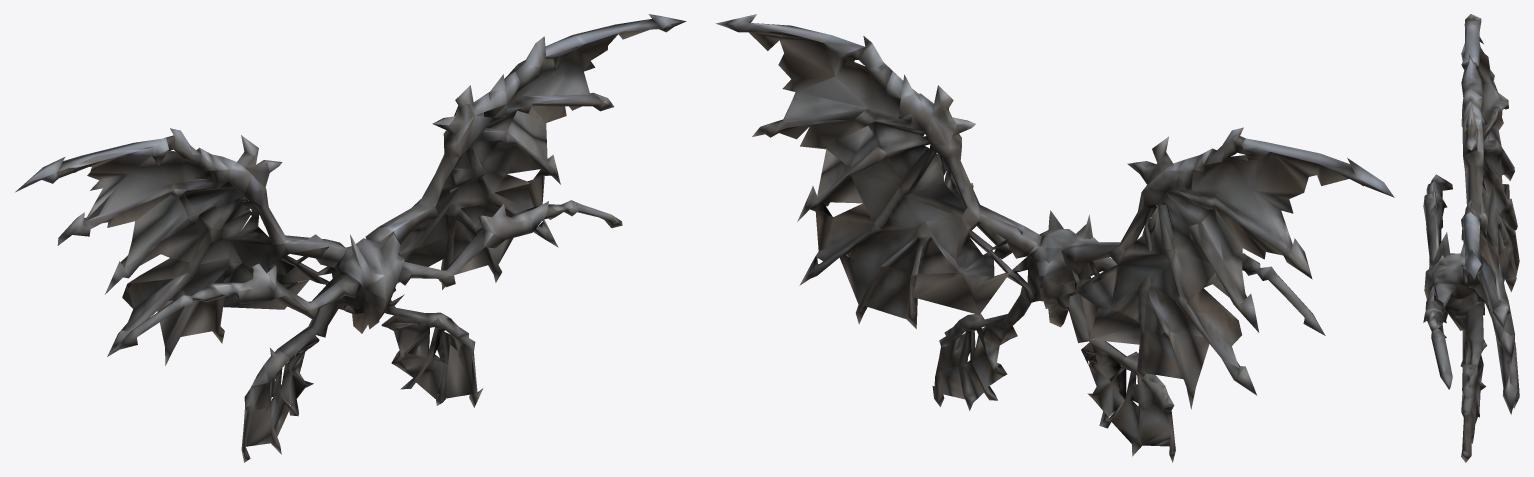
Rendered from 2500钢铁翅膀4.fbx.
3 renders of one model, left to right at view 1: azimuth 30°, elevation 25°; view 2: azimuth 150°, elevation 25°; view 3: azimuth 270°, elevation 25°, orthographic. The views are drawn at different scales.
Visible parts, largest first — view 1: geometry_0.004; view 2: geometry_0.004; view 3: geometry_0.004.
Part boxes in pixels (<box>): geometry_0.004: <box>15,14,686,462</box>; geometry_0.004: <box>715,14,1394,462</box>; geometry_0.004: <box>1423,14,1519,462</box>.
Bounding box in the file's own units: 97.86 × 49.14 × 14.83.
